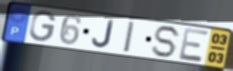6: (58, 14, 83, 47)
E: (178, 27, 211, 64)
G: (28, 10, 58, 43)
I: (122, 20, 136, 55)
J: (91, 20, 116, 50)
S: (151, 25, 184, 59)
